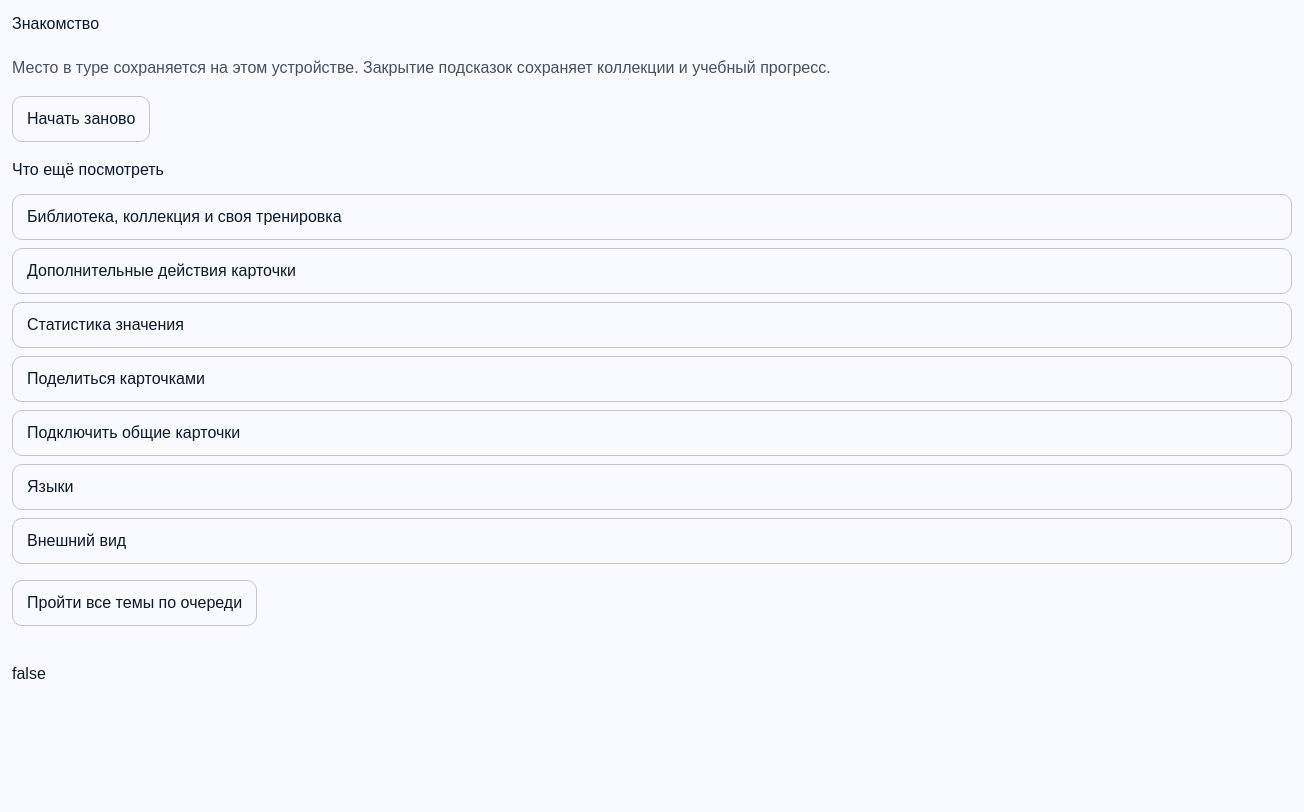
Test case: denied storage leaves topic controls usable and reports that resume is unavailable
Click the button "Поделиться карточками": (116, 378) [12,356,1292,402]
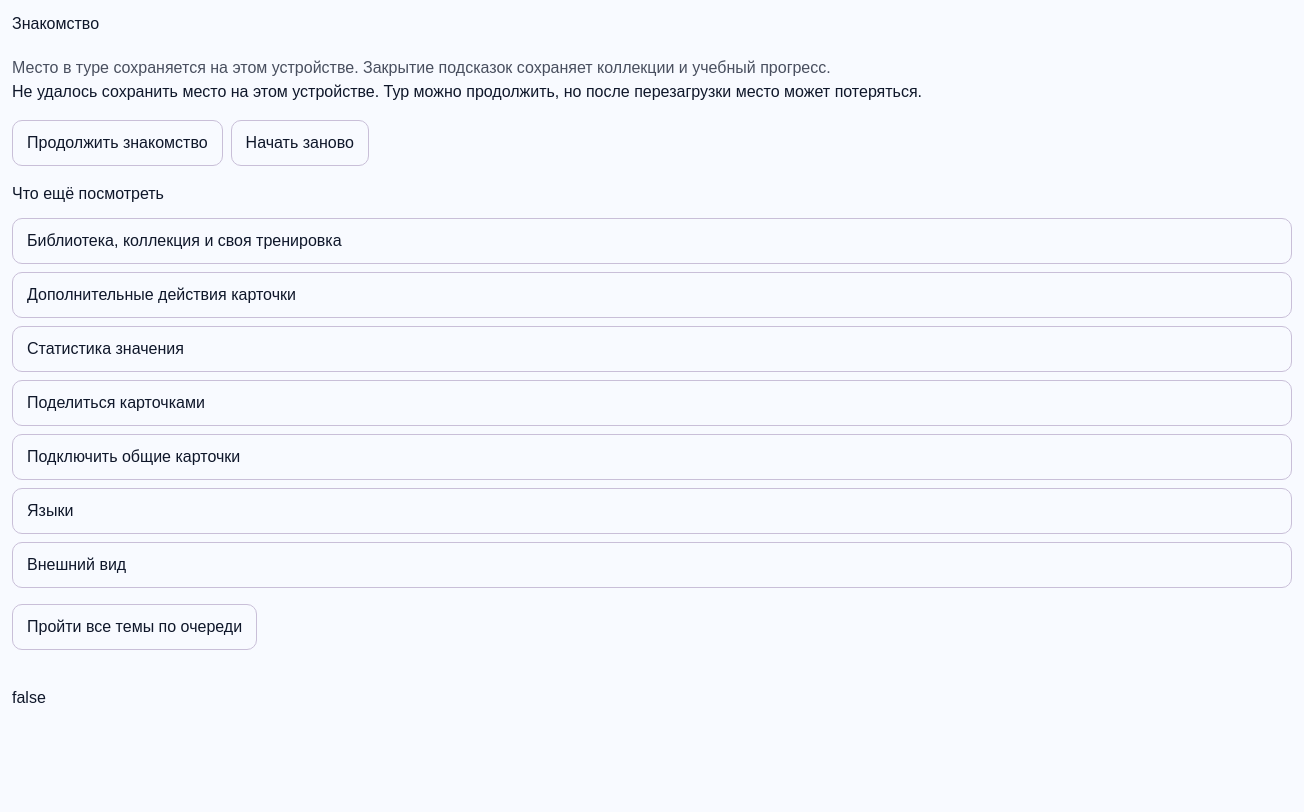
Expected: the message is shown, [12,83,922,100]
